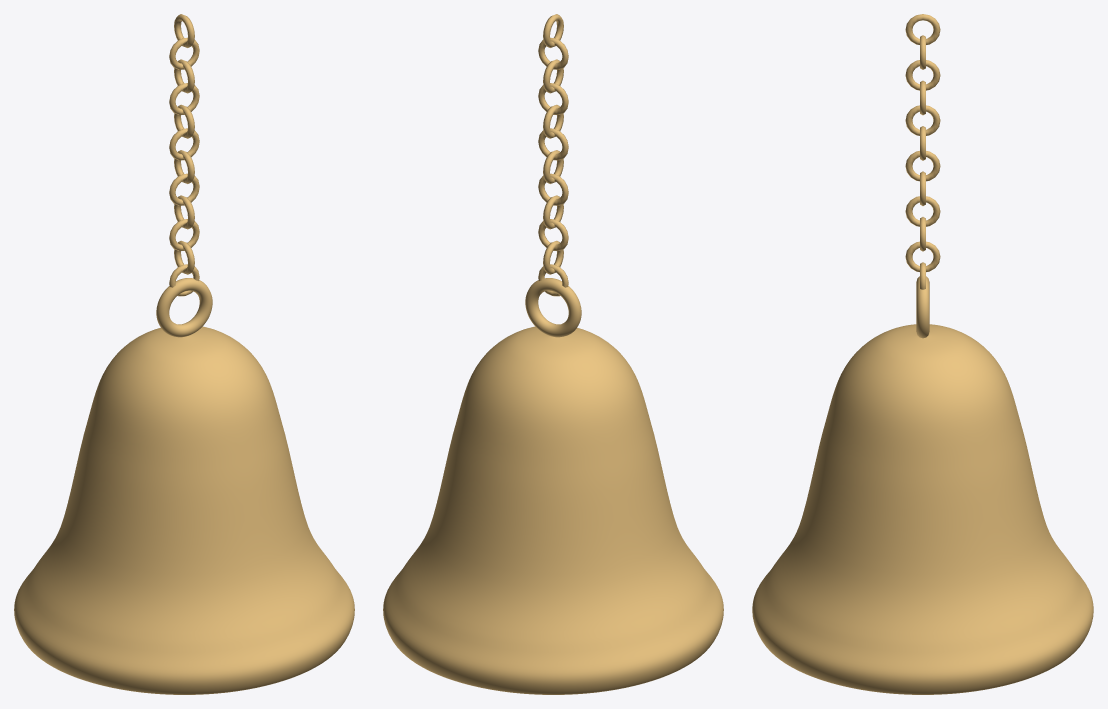
The model's file is divi-bell.glb.
3 renders of one model, left to right at view 1: azimuth 30°, elevation 25°; view 2: azimuth 150°, elevation 25°; view 3: azimuth 270°, elevation 25°, orthographic.
Parts seen in each view (by area): view 1: Bell, Torus; view 2: Bell, Torus; view 3: Bell, Torus, Torus.012.
Part boxes in pixels (x1,y1,x2,y2): Bell: [14, 326, 354, 694]; Torus: [156, 278, 212, 337]; Bell: [383, 326, 723, 694]; Torus: [525, 278, 581, 337]; Bell: [752, 324, 1093, 694]; Torus: [916, 276, 929, 338]; Torus.012: [905, 14, 940, 44].
Bounding box in the file's own units: 0.6815 × 1.35 × 0.6815.
